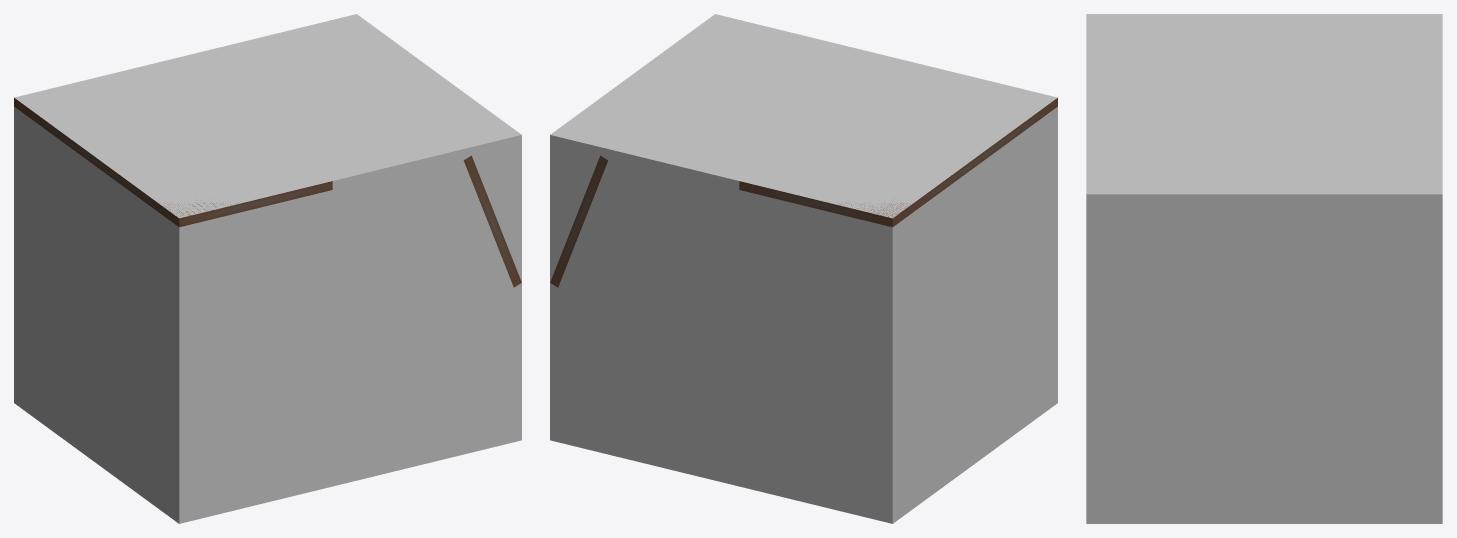
The model's file is SM_CardboardBox_01.fbx.
3 renders of one model, left to right at view 1: azimuth 30°, elevation 25°; view 2: azimuth 150°, elevation 25°; view 3: azimuth 270°, elevation 25°, orthographic. The views are drawn at different scales.
Parts seen in each view (by area): view 1: SM_CardboardBox_01_ConvexHulls, SM_CardboardBox_01; view 2: SM_CardboardBox_01_ConvexHulls, SM_CardboardBox_01; view 3: SM_CardboardBox_01_ConvexHulls.
Boxes of the visible parts, <box> form: SM_CardboardBox_01_ConvexHulls: <box>14,14,521,523</box>; SM_CardboardBox_01: <box>14,98,521,287</box>; SM_CardboardBox_01_ConvexHulls: <box>550,14,1057,523</box>; SM_CardboardBox_01: <box>550,98,1057,287</box>; SM_CardboardBox_01_ConvexHulls: <box>1086,14,1442,523</box>.
Size of the model in its own units: 60.24 by 50.29 by 51.32.
Materials: 2 (1 with a texture image).
